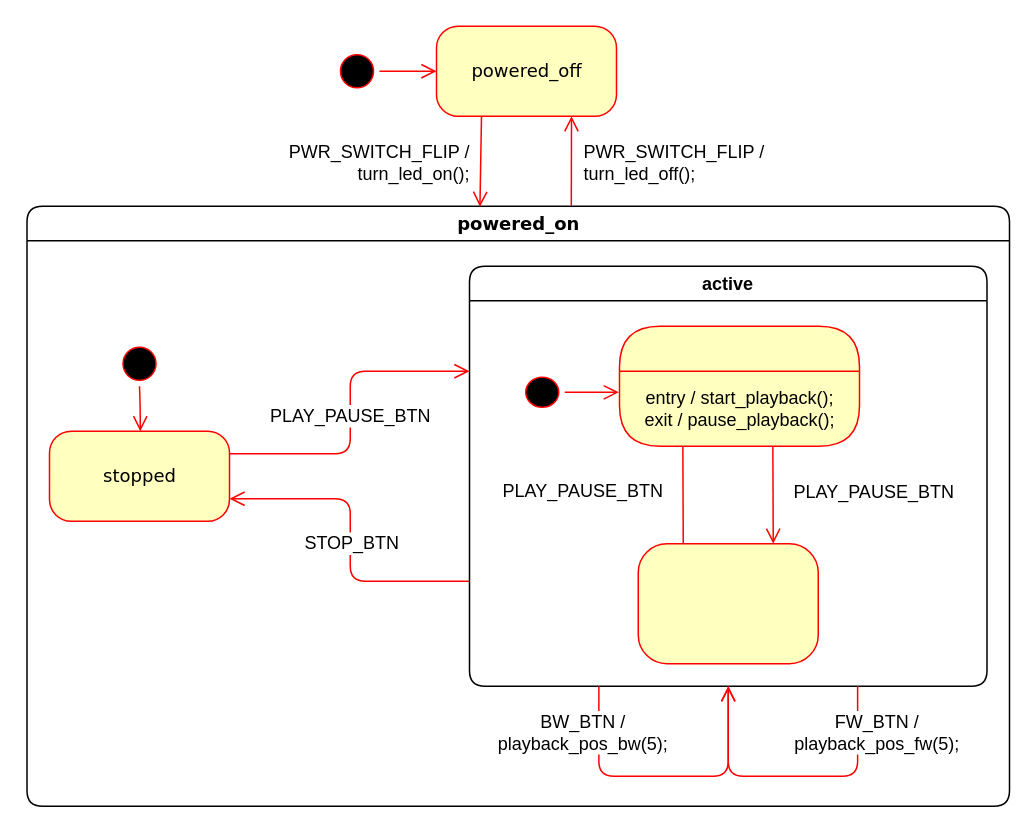
Some shapes in this 1035 by 833 pixel diagram are drawn without their labels. Each missing label, with the box of its shape:
paused: (637, 542, 818, 664)
playing: (618, 325, 860, 446)
